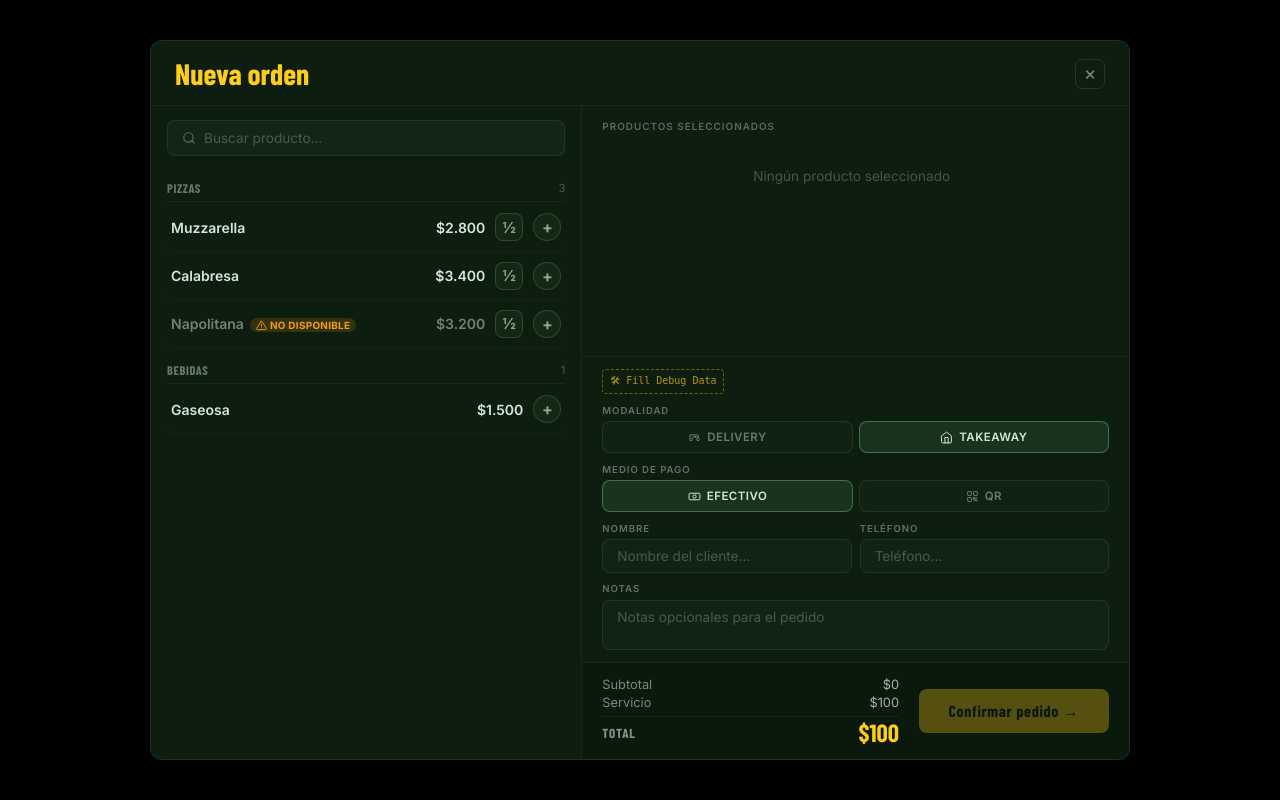
Test case: NewOrderModal · mitad y mitad (US-HH-F-03) › el combinado no se fusiona con el producto suelto de su primera mitad
Check: the text "Muzzarella" is shown, box [171,219,245,236]
Step 1. Click the text "Muzzarella" → (366, 228), box [167,204,565,252]
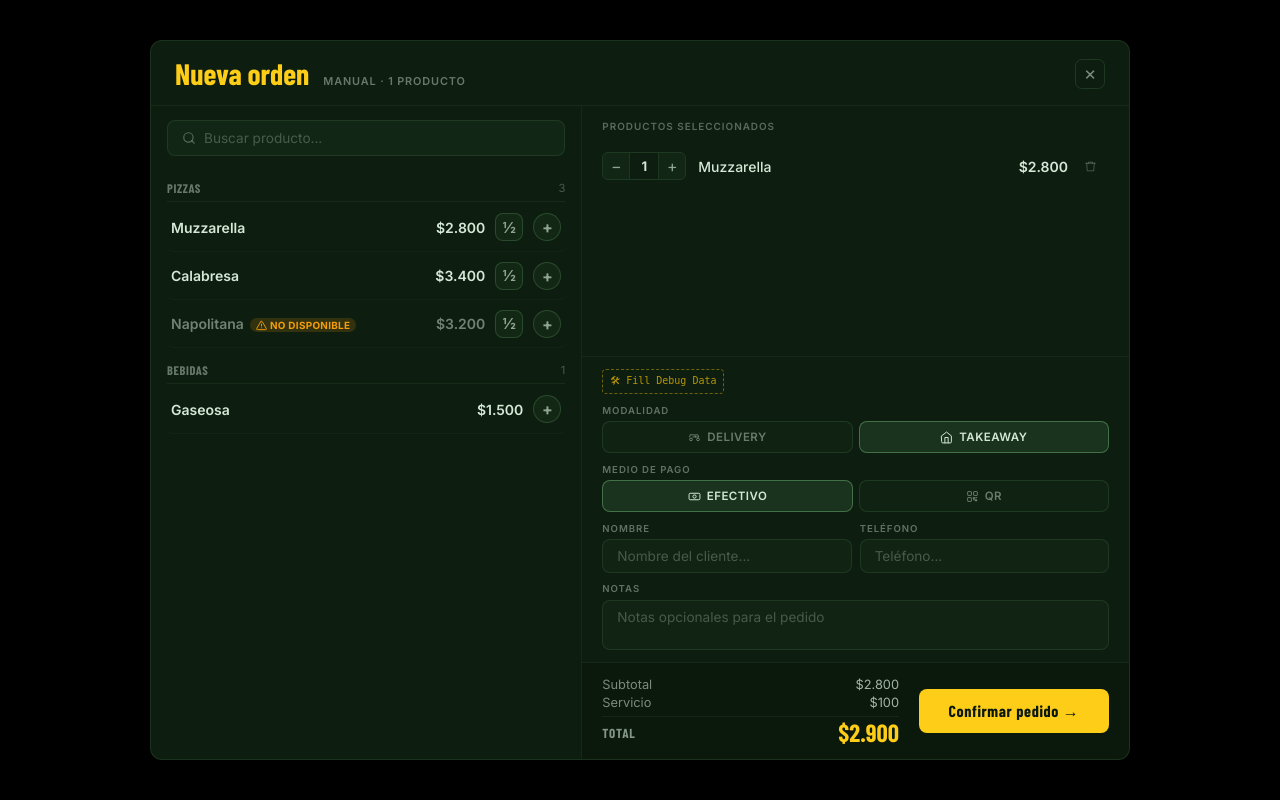
Step 2. Click the button named "mitad y mitad" → (509, 227), box [495,213,523,241]
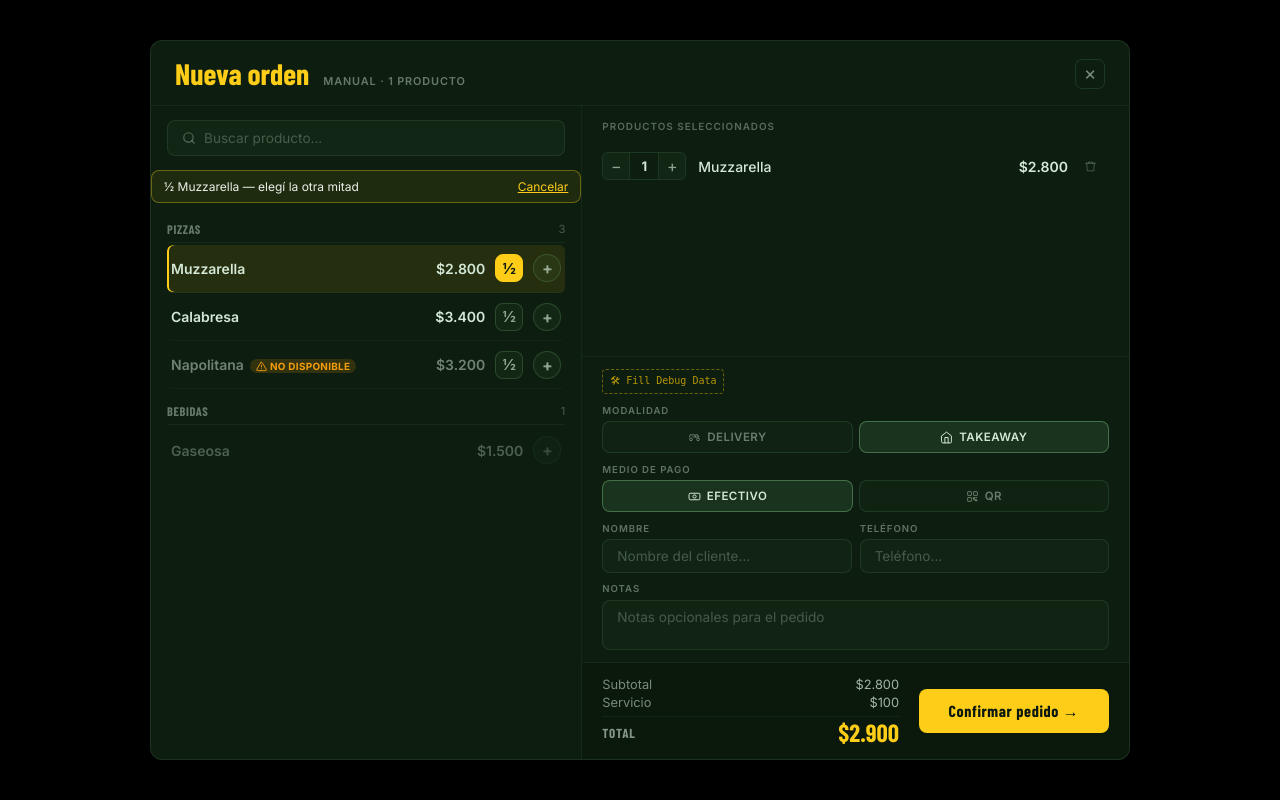
Step 3. Click the button named "mitad y mitad" → (509, 316), box [495,302,523,330]
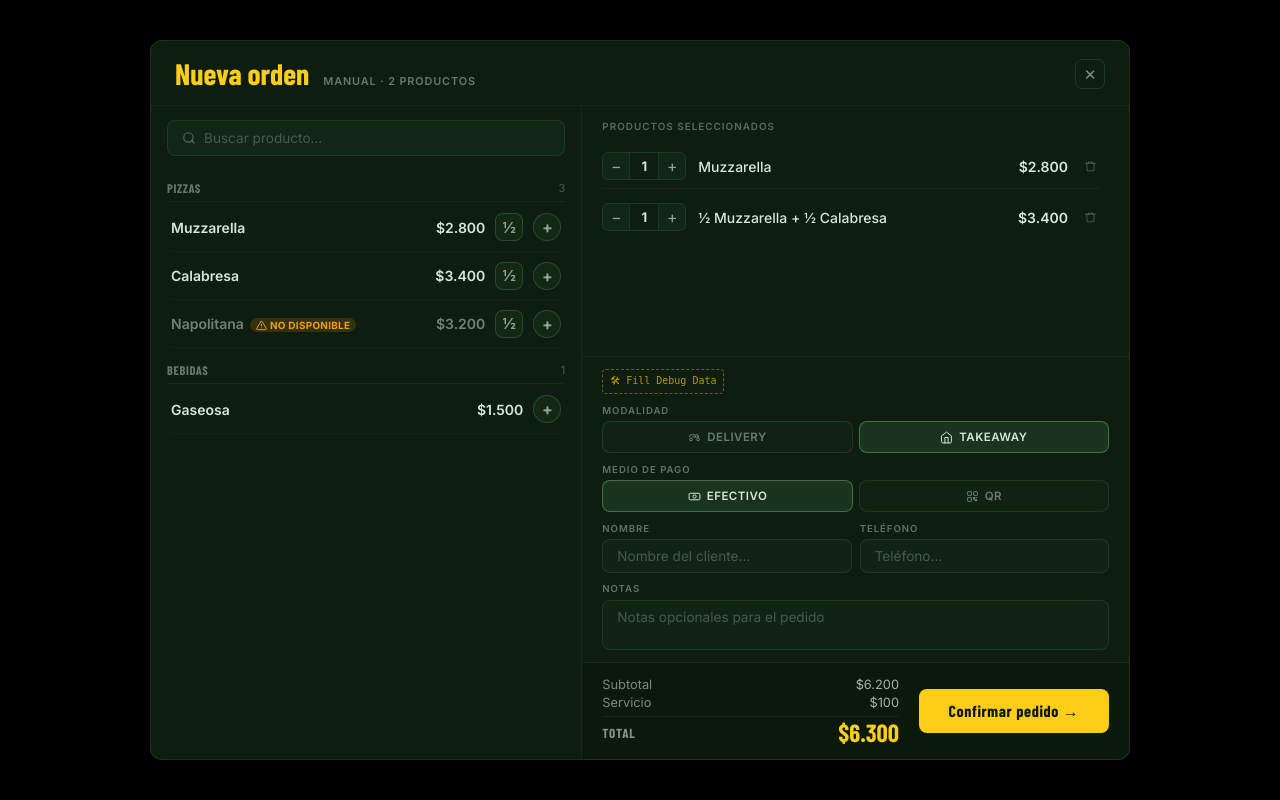
Check: the number of elements with class "nom-cart-item" is 2, box [602,144,1101,189]; [602,195,1101,239]
